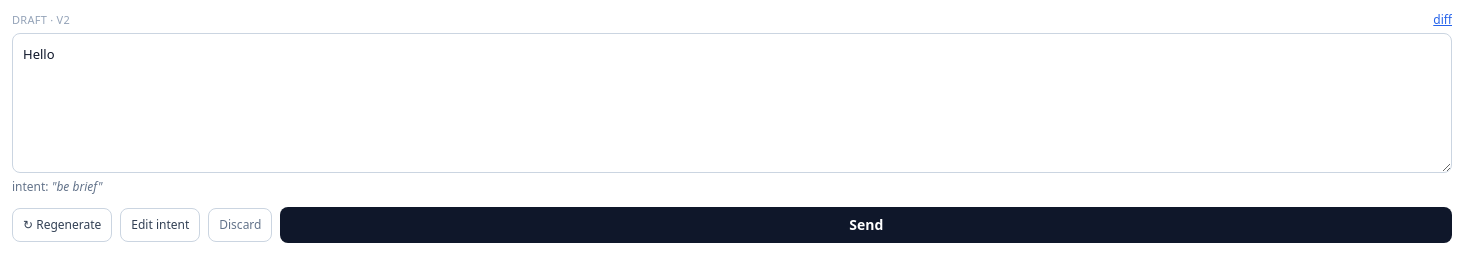
Test: DraftPanel › shows the diff when toggled (raw intent present)
The width and height of the screenshot is (1464, 260).
Click the button "diff".
click(1443, 20)  # box [1433,12,1452,28]
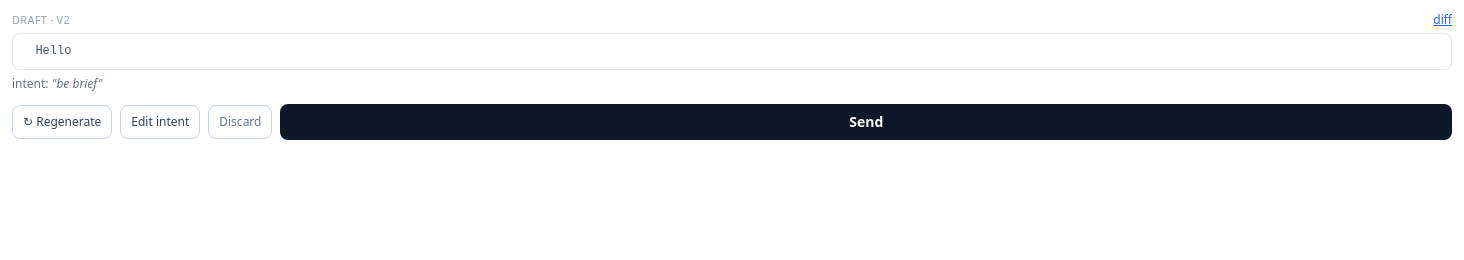
Expected: the text "Hello" is shown, [35,44,71,58]
